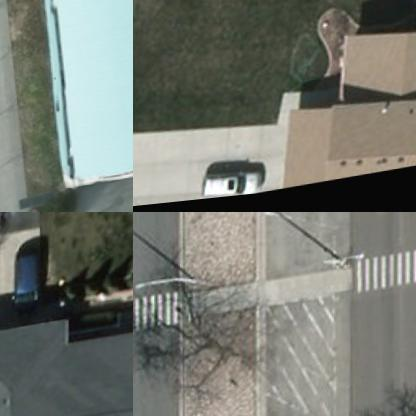car: (8, 251, 48, 324)
